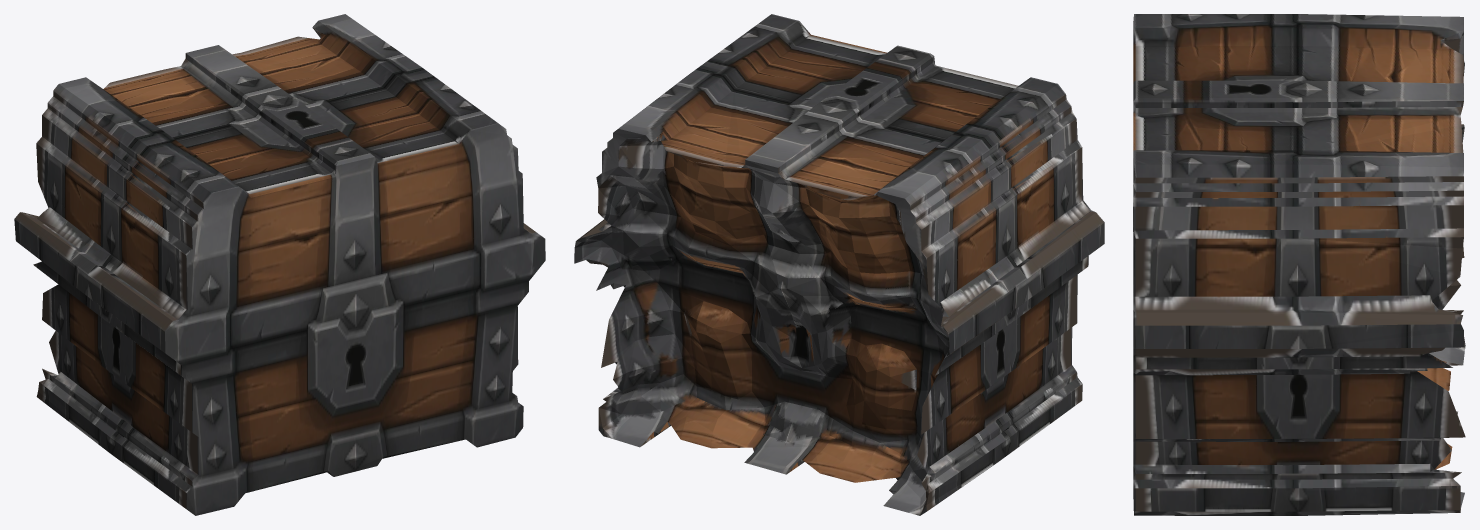
File: SM_Dungeon_Chest_A_LOD0.glb
3 views of the same model, side by side, from view 1: azimuth 30°, elevation 25°; view 2: azimuth 150°, elevation 25°; view 3: azimuth 270°, elevation 25° (orthographic). The views are drawn at different scales.
Parts seen in each view (by area): view 1: SM_Dungeon_Chest_A_LOD0; view 2: SM_Dungeon_Chest_A_LOD0; view 3: SM_Dungeon_Chest_A_LOD0.
Boxes of the visible parts, box(x1,y1,x2,y2) form: SM_Dungeon_Chest_A_LOD0: box(14, 14, 545, 515); SM_Dungeon_Chest_A_LOD0: box(574, 14, 1104, 515); SM_Dungeon_Chest_A_LOD0: box(1133, 14, 1465, 515).
Bounding box in the file's own units: 1 × 0.8 × 0.7037.
Materials: 1 (1 with a texture image).
